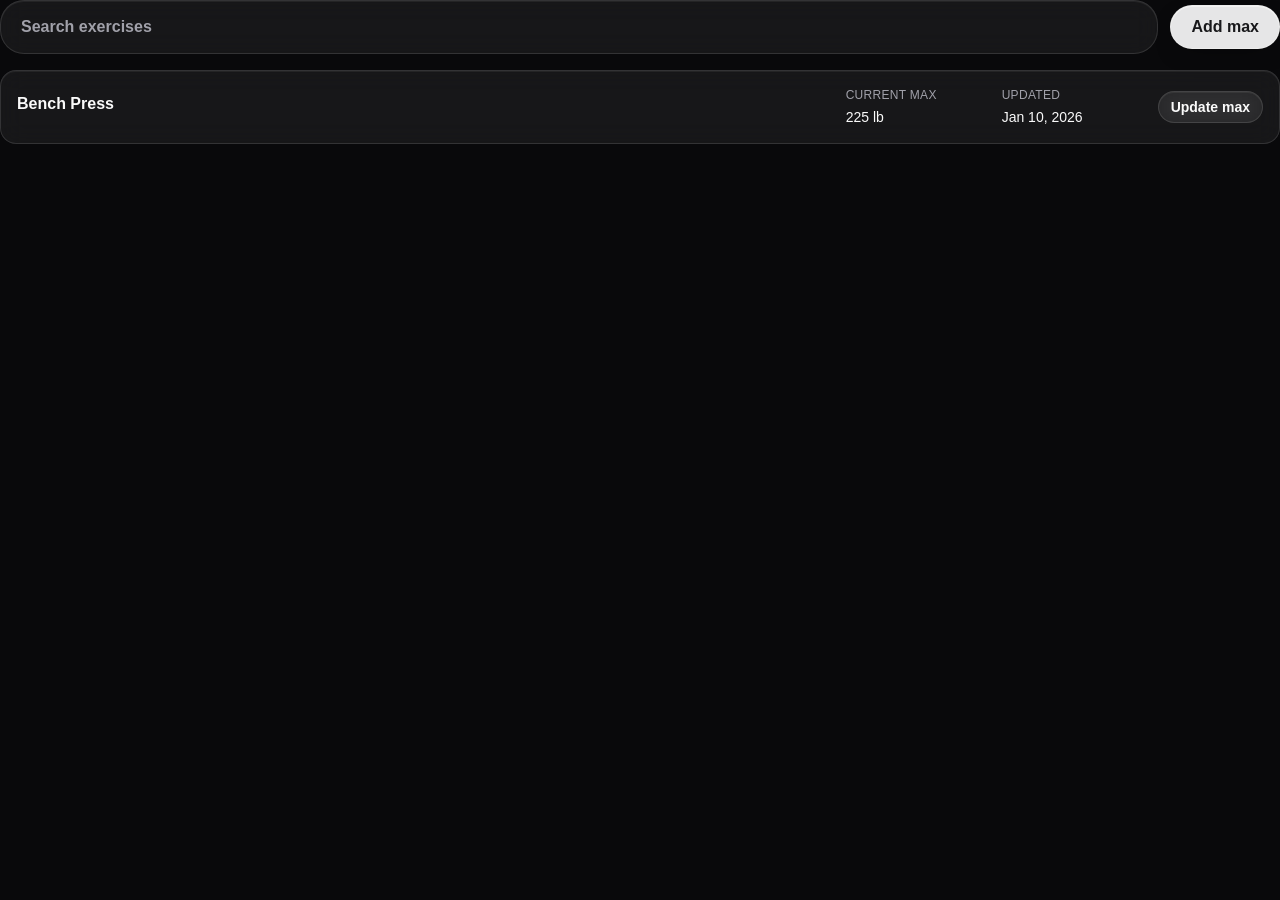
Test: CoachAthleteMaxesTab › opens the update modal from the exercise list row
Step 1. Click the button "Update max" → (1210, 107), box top-left (1158, 91), bottom-right (1263, 123)
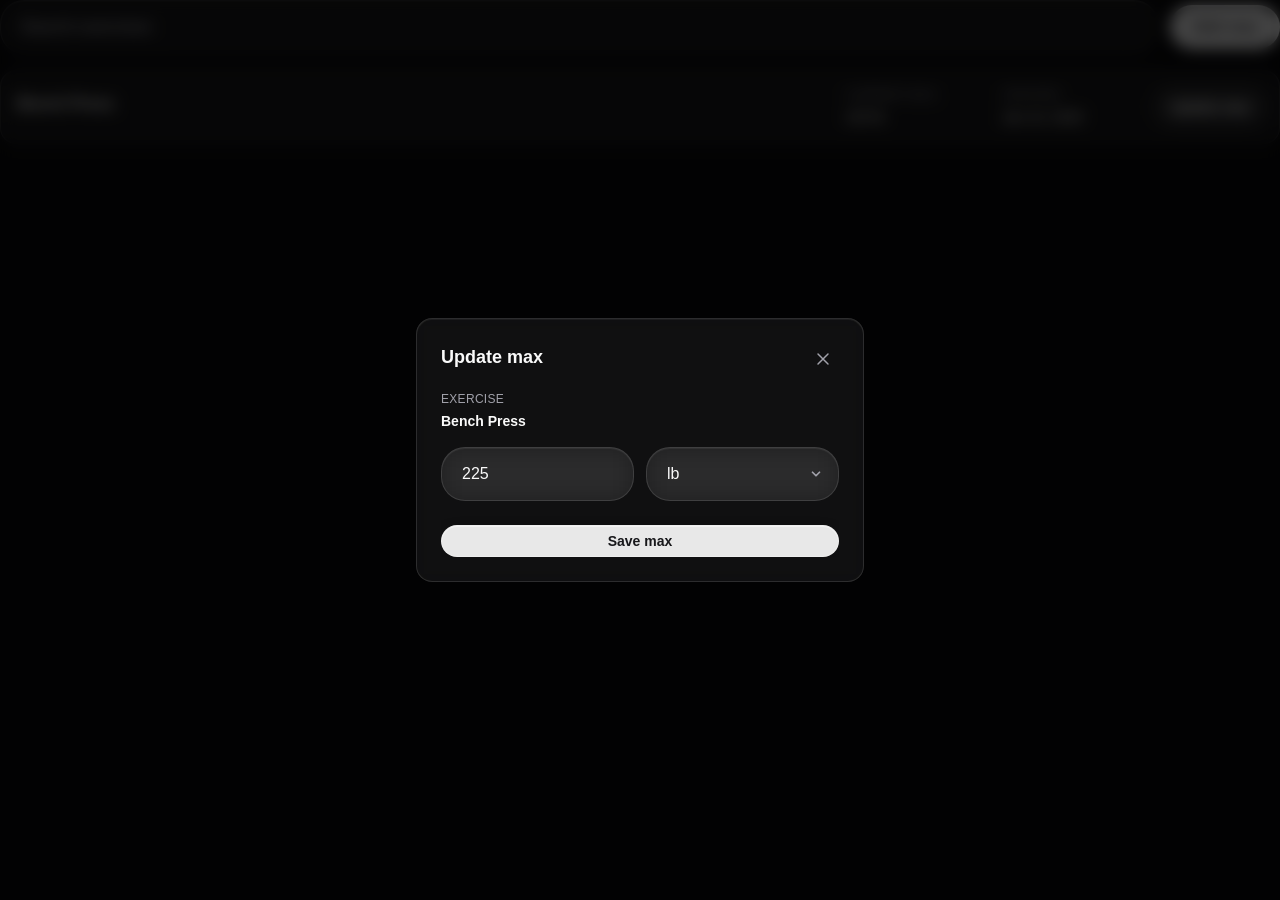
Expected: the dialog "Update max" is shown, top-left (416, 318), bottom-right (864, 582)
Expected: the number field showing "225" is shown, top-left (441, 447), bottom-right (634, 501)
Expected: the dropdown named "Unit" shows "lb", top-left (646, 447), bottom-right (839, 501)
